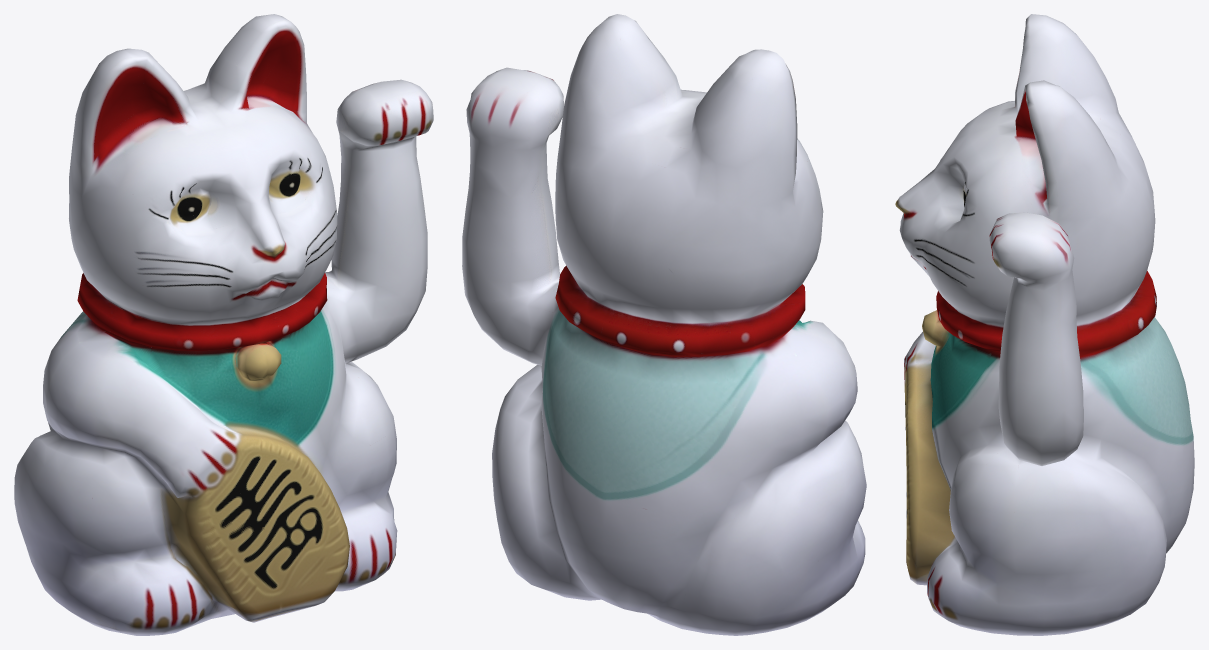
Rendered from beckoningcat.glb.
The picture shows the model from 3 angles, left to right: view 1: azimuth 30°, elevation 25°; view 2: azimuth 150°, elevation 25°; view 3: azimuth 270°, elevation 25°; orthographic projection. The views are drawn at different scales.
Bounding box in the file's own units: 0.7363 × 1 × 0.5273.
Materials: 1 (1 with a texture image).
